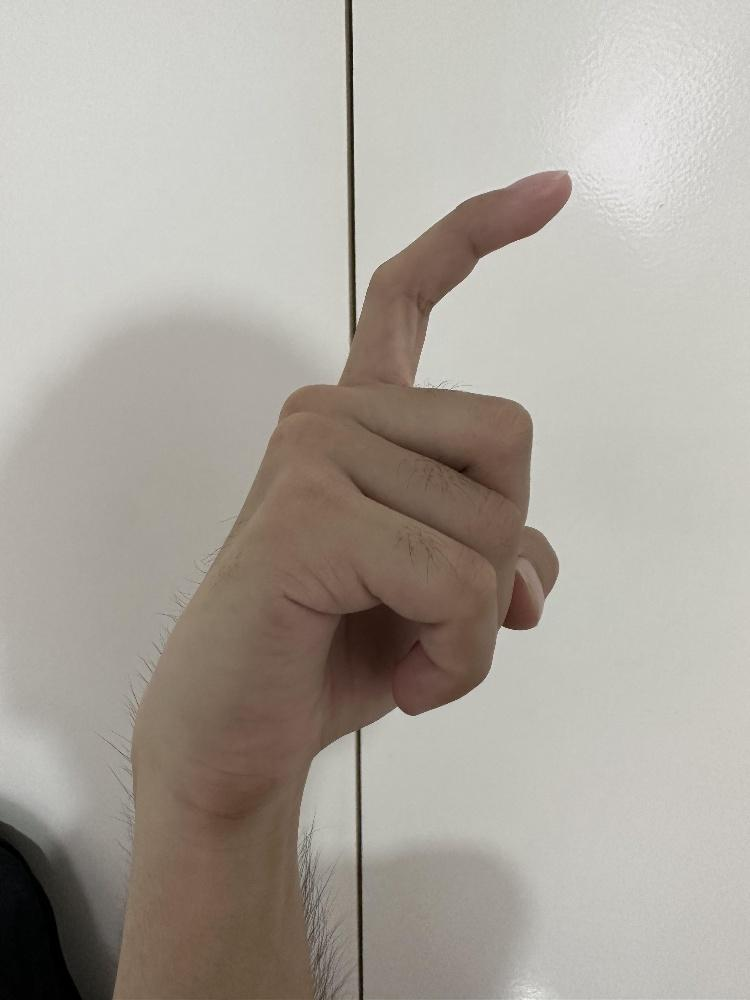x: (129, 164, 573, 810)
